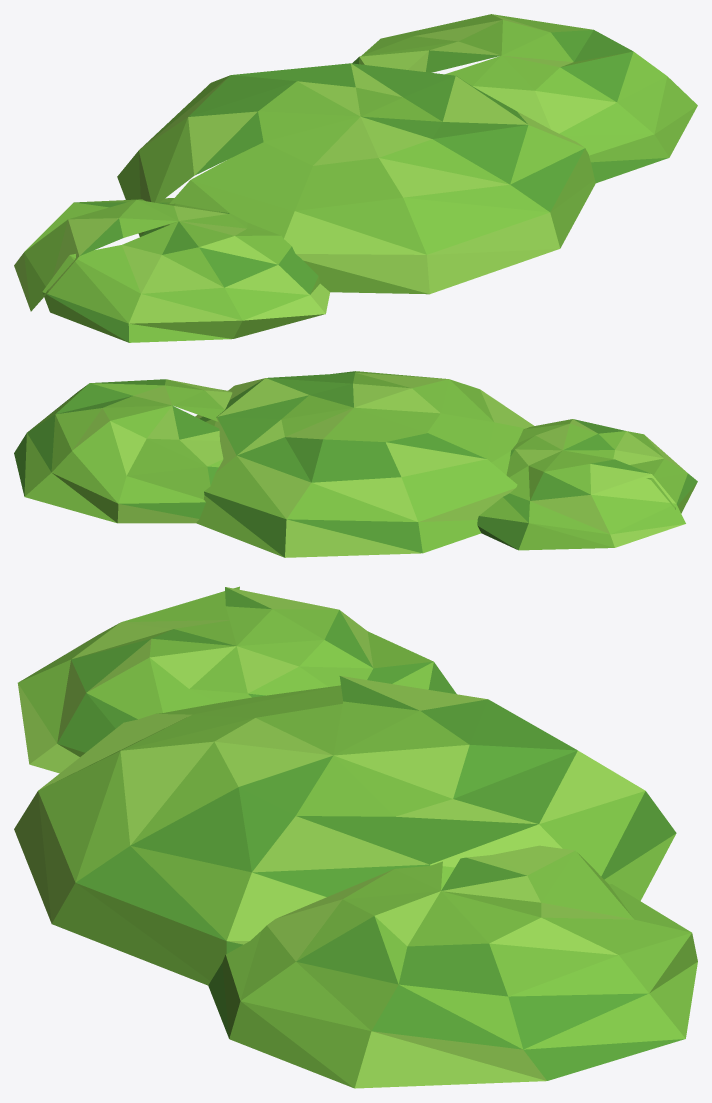
File: colinas_v2.glb
3 renders of one model, top to bottom at view 1: azimuth 30°, elevation 25°; view 2: azimuth 150°, elevation 25°; view 3: azimuth 270°, elevation 25°, orthographic. The views are drawn at different scales.
Visible parts, largest first — view 1: colina_1_pasto, colina_1_pasto_claro, colina_2_pasto, colina_3_pasto, colina_1_pasto_oscuro, colina_2_pasto_claro, colina_3_pasto_claro, colina_3_pasto_oscuro, colina_2_pasto_oscuro; view 2: colina_1_pasto, colina_3_pasto, colina_1_pasto_claro, colina_1_pasto_oscuro, colina_2_pasto, colina_2_pasto_claro, colina_3_pasto_claro, colina_3_pasto_oscuro, colina_2_pasto_oscuro; view 3: colina_3_pasto, colina_1_pasto, colina_1_pasto_oscuro, colina_1_pasto_claro, colina_2_pasto, colina_3_pasto_oscuro, colina_3_pasto_claro, colina_2_pasto_claro, colina_2_pasto_oscuro.
Boxes of the visible parts, x1,y1,x2,y2 form: colina_1_pasto: (117, 75, 595, 294); colina_1_pasto_claro: (138, 63, 584, 293); colina_2_pasto: (24, 198, 325, 342); colina_3_pasto: (359, 14, 697, 162); colina_1_pasto_oscuro: (140, 63, 584, 236); colina_2_pasto_claro: (14, 198, 329, 323); colina_3_pasto_claro: (359, 14, 616, 133); colina_3_pasto_oscuro: (352, 30, 668, 183); colina_2_pasto_oscuro: (43, 202, 318, 342); colina_1_pasto: (196, 371, 525, 557); colina_3_pasto: (24, 379, 227, 523); colina_1_pasto_claro: (195, 373, 533, 557); colina_1_pasto_oscuro: (199, 371, 486, 557); colina_2_pasto: (479, 419, 697, 550); colina_2_pasto_claro: (515, 419, 686, 547); colina_3_pasto_claro: (72, 379, 232, 523); colina_3_pasto_oscuro: (14, 379, 219, 518); colina_2_pasto_oscuro: (477, 419, 697, 550); colina_3_pasto: (222, 850, 697, 1088); colina_1_pasto: (38, 685, 676, 985); colina_1_pasto_oscuro: (75, 676, 676, 953); colina_1_pasto_claro: (14, 676, 645, 944); colina_2_pasto: (18, 586, 433, 756); colina_3_pasto_oscuro: (208, 857, 684, 1080); colina_3_pasto_claro: (267, 845, 633, 1088); colina_2_pasto_claro: (17, 587, 373, 773); colina_2_pasto_oscuro: (57, 587, 456, 752).
Bounding box in the file's own units: 30.15 × 3.25 × 18.62.
